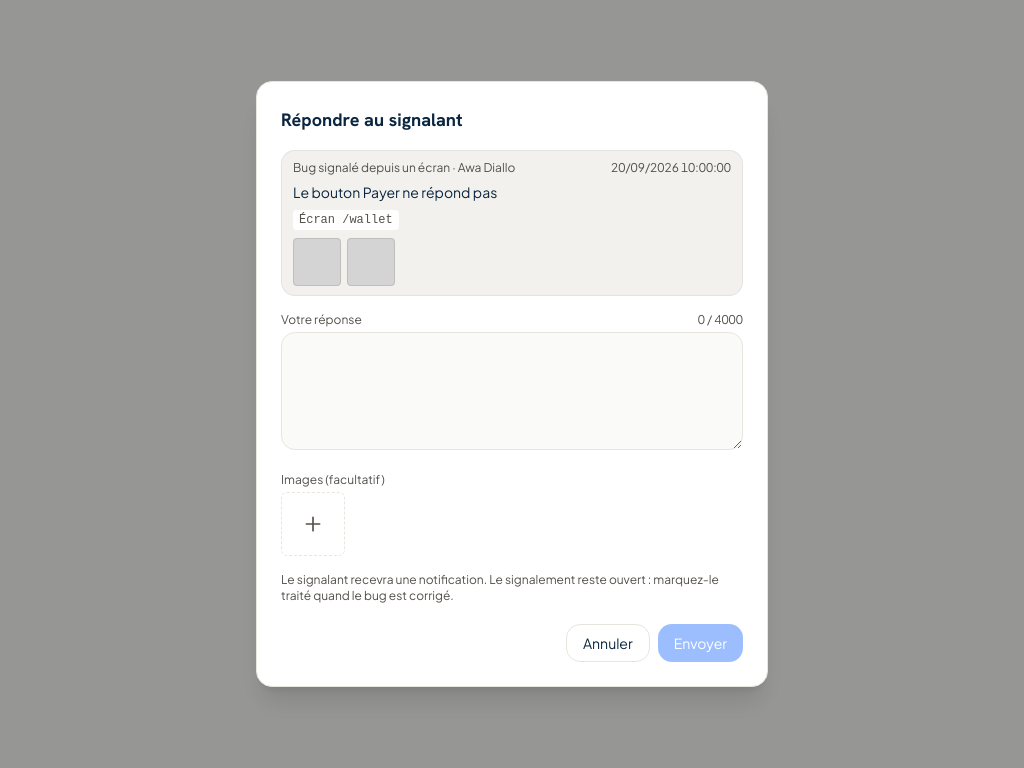
Test case: ReportReplyDialog › 422 de validation : erreurs sous le champ et sous les images
Step 1. Type "Merci" into the text box with test id "reply-message" → (512, 391), box x1=281 y1=332 x2=743 y2=450
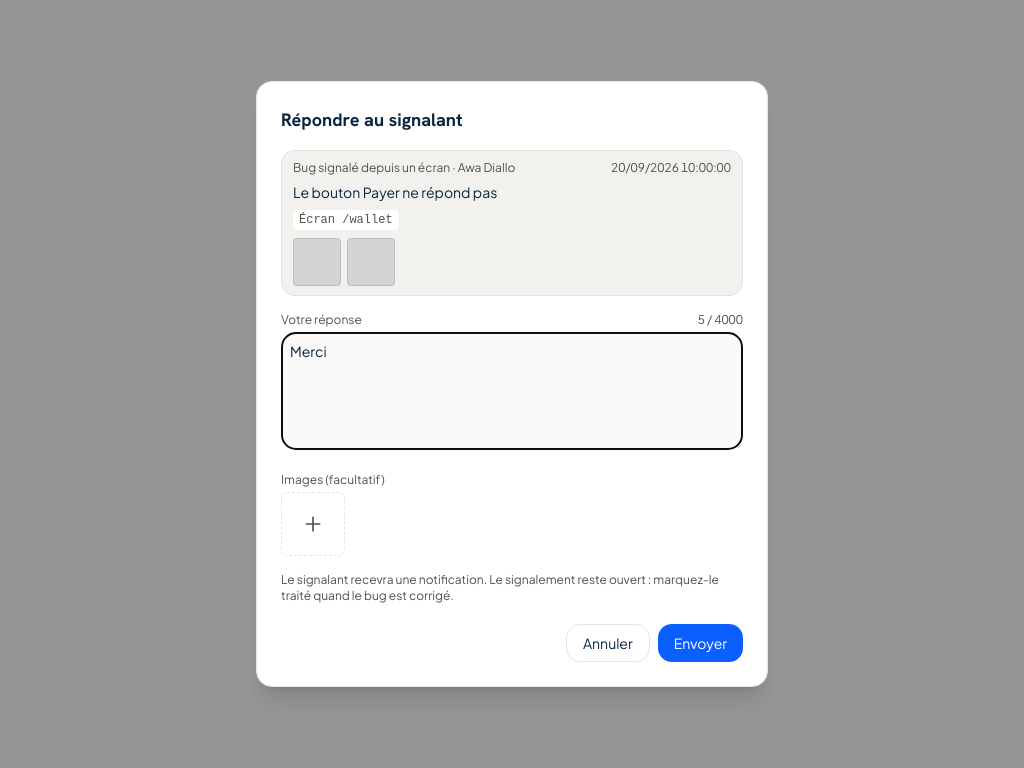
Step 2. Click the button with test id "reply-submit" → (700, 643), box x1=658 y1=624 x2=743 y2=662
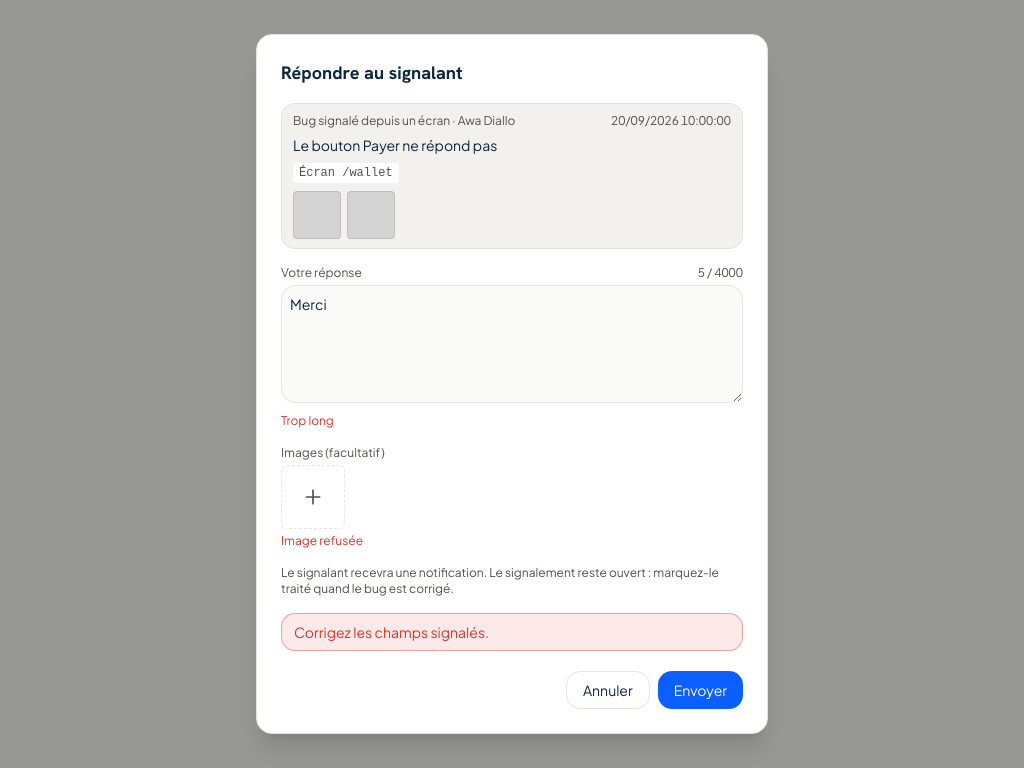
Expected: the text with test id "reply-field-error-message" reads "Trop long", x1=281 y1=413 x2=334 y2=428
Expected: the text with test id "reply-field-error-attachmentKeys" reads "Image refusée", x1=281 y1=533 x2=363 y2=548
